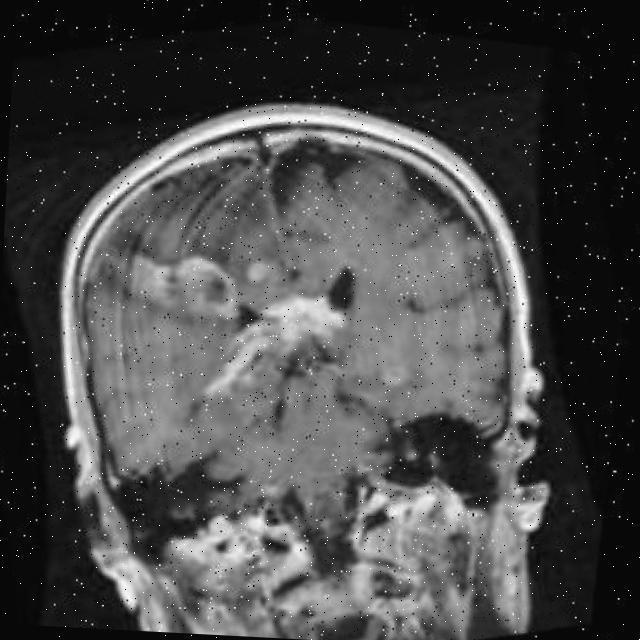LMCI: (240, 260, 351, 388), (147, 238, 250, 342)
